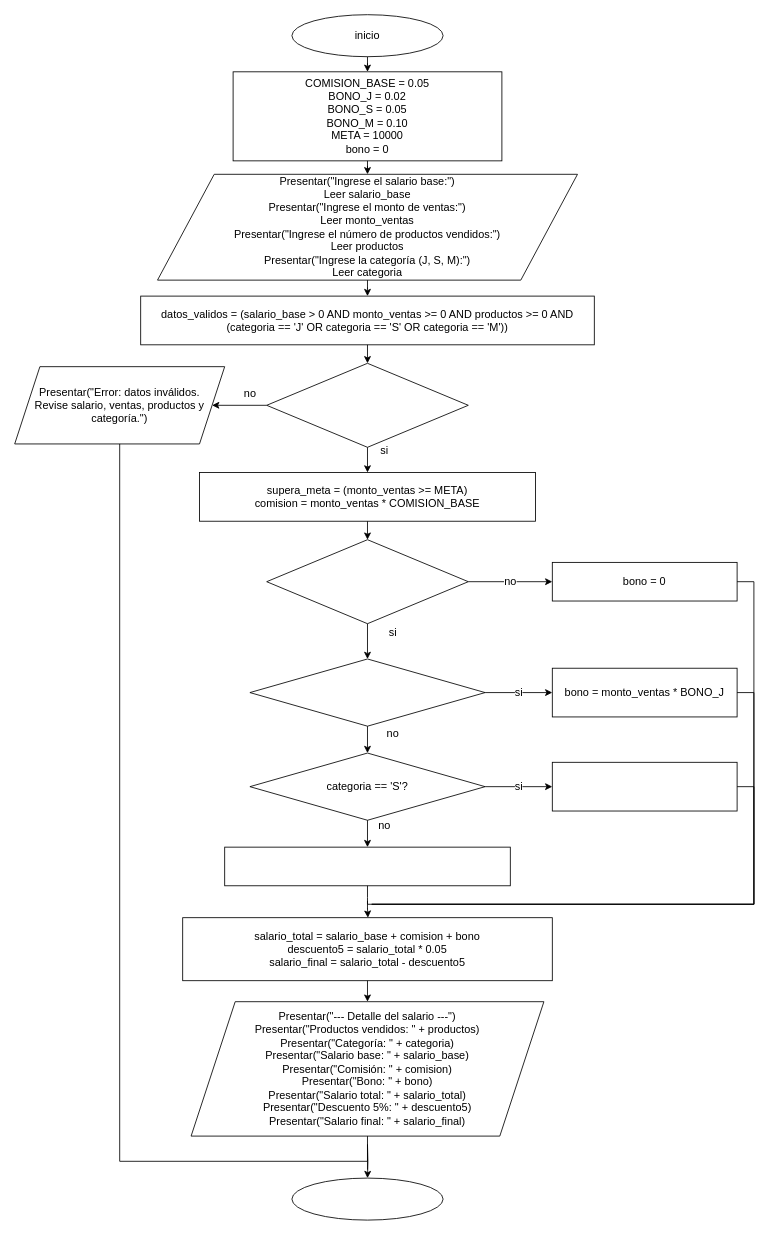
This 769x1235 diagram has some shape labels left out. Here are the shapes that lost their labels. From the top down, the centre of each, then its label:
At (367,404): "datos_validos?".
At (367,581): "supera_meta?".
At (367,692): "categoria == 'J'?".
At (644,786): "bono = monto_ventas * BONO_S".
At (367,866): "bono = monto_ventas * BONO_M".
At (367,1198): "fin".
